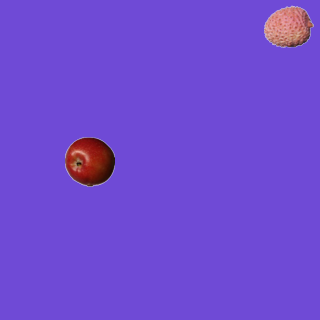Apple Braeburn: (64, 136, 114, 186)
Lychee: (263, 1, 313, 51)
